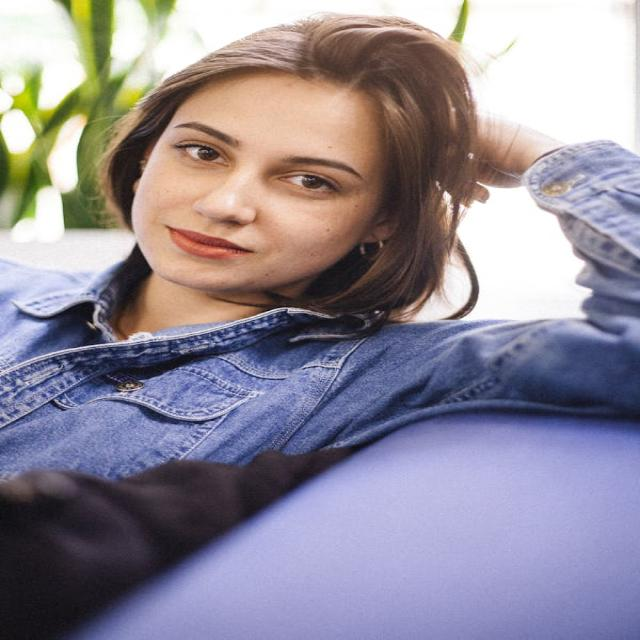no_mask: (111, 33, 498, 319)
